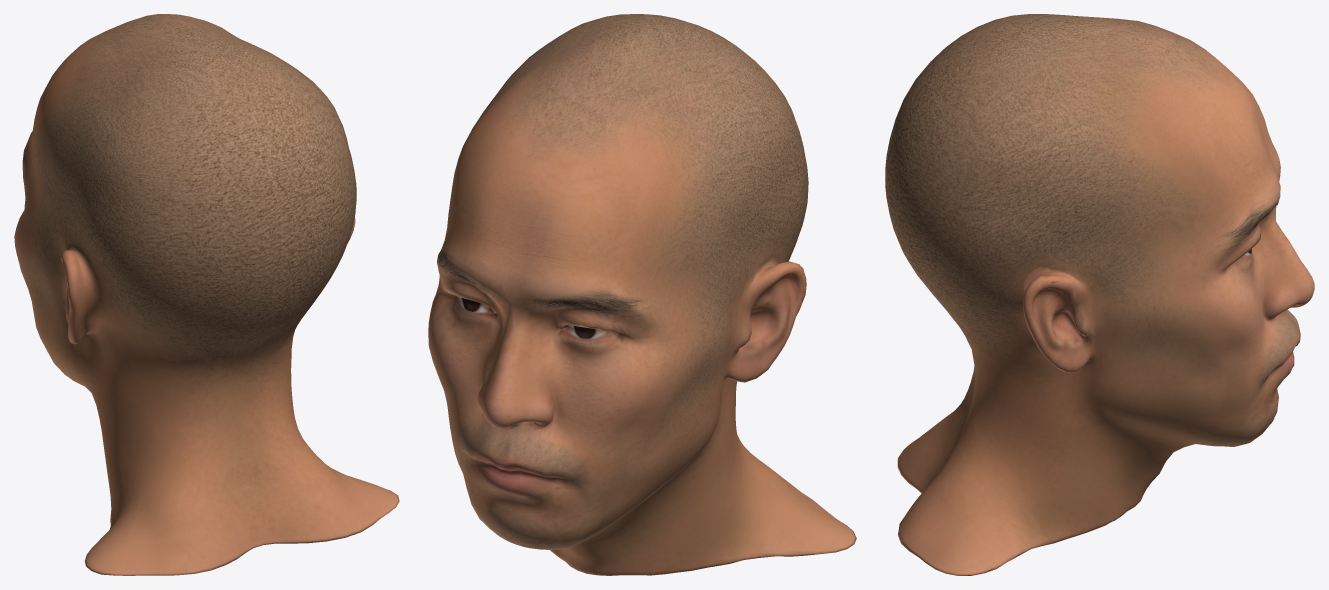
Rendered from Model_HairHead_Yi.glb.
The picture shows the model from 3 angles, left to right: view 1: azimuth 30°, elevation 25°; view 2: azimuth 150°, elevation 25°; view 3: azimuth 270°, elevation 25°; orthographic projection. The views are drawn at different scales.
Parts seen in each view (by area): view 1: HairHead_Yi; view 2: HairHead_Yi; view 3: HairHead_Yi.
Part boxes in pixels (<box>): HairHead_Yi: <box>14,14,399,575</box>; HairHead_Yi: <box>428,14,856,575</box>; HairHead_Yi: <box>885,14,1314,575</box>.
Bounding box in the file's own units: 0.2079 × 0.2989 × 0.2438.
Materials: 1 (1 with a texture image).
